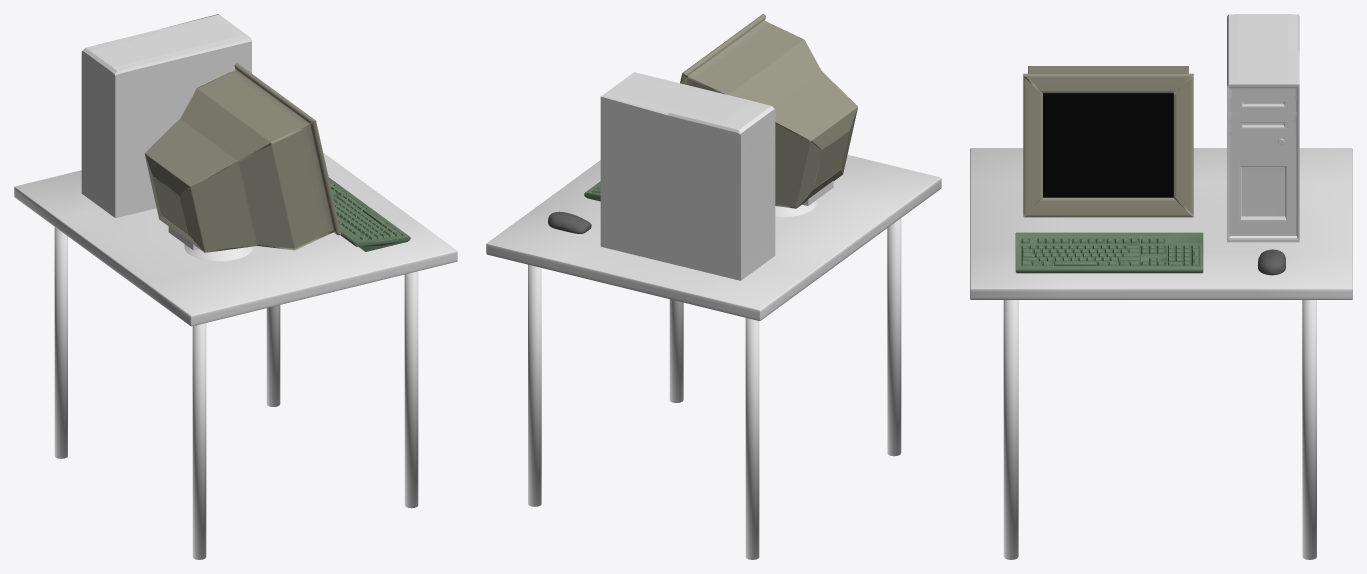
The picture shows the model from 3 angles, left to right: view 1: azimuth 30°, elevation 25°; view 2: azimuth 150°, elevation 25°; view 3: azimuth 270°, elevation 25°; orthographic projection. The views are drawn at different scales.
Visible parts, largest first — view 1: Monitor, Comp Table, Case, CompTable Legs, Keyboard, Monitor Stand; view 2: Case, Comp Table, Monitor, CompTable Legs, Mouse, Monitor Stand; view 3: Comp Table, Case, Screen, Monitor, CompTable Legs, Keyboard, Mouse.
Boxes of the visible parts, x1=… form: Monitor: x1=144, y1=63, x2=340, y2=252; Comp Table: x1=14, y1=153, x2=457, y2=326; Case: x1=81, y1=14, x2=251, y2=217; CompTable Legs: x1=54, y1=227, x2=418, y2=559; Keyboard: x1=328, y1=177, x2=410, y2=251; Monitor Stand: x1=168, y1=226, x2=253, y2=261; Case: x1=600, y1=72, x2=775, y2=280; Comp Table: x1=486, y1=155, x2=941, y2=320; Monitor: x1=680, y1=14, x2=857, y2=208; CompTable Legs: x1=528, y1=218, x2=901, y2=559; Mouse: x1=548, y1=211, x2=591, y2=233; Monitor Stand: x1=775, y1=181, x2=833, y2=217; Comp Table: x1=970, y1=148, x2=1352, y2=299; Case: x1=1227, y1=14, x2=1299, y2=242; Screen: x1=1043, y1=93, x2=1173, y2=197; Monitor: x1=1023, y1=66, x2=1193, y2=217; CompTable Legs: x1=1003, y1=300, x2=1316, y2=559; Keyboard: x1=1015, y1=232, x2=1203, y2=273; Mouse: x1=1257, y1=249, x2=1285, y2=275.
Bounding box in the file's own units: 126 × 184 × 145.
